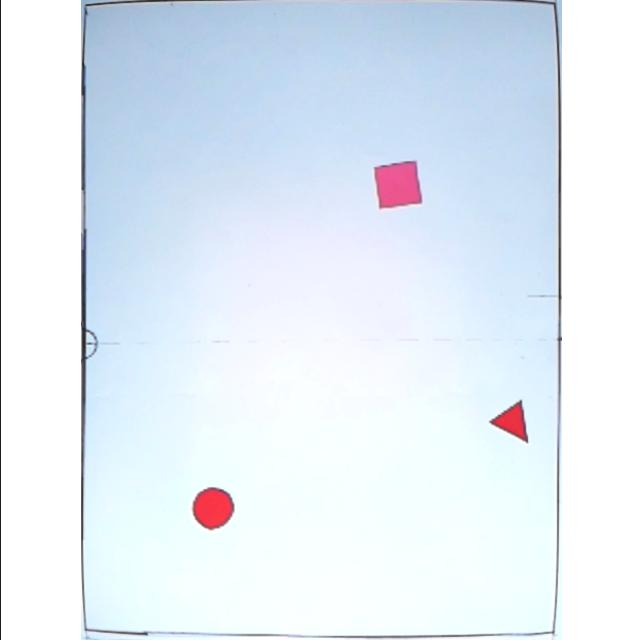pinkSquare: (370, 160, 420, 210)
redCircle: (187, 486, 233, 532)
redTriangle: (485, 401, 533, 443)
